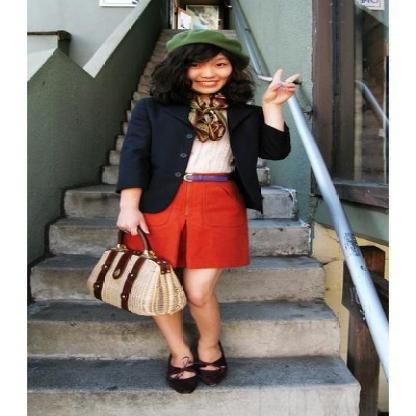bag: (87, 250, 185, 314)
hat: (156, 25, 242, 53)
jacket: (112, 98, 290, 215)
shirt: (184, 129, 233, 180)
shoe: (170, 358, 226, 393)
skirt: (118, 180, 248, 269)
